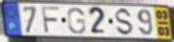2: (87, 6, 110, 38)
7: (22, 6, 38, 34)
9: (136, 8, 154, 37)
F: (41, 5, 62, 35)
G: (66, 7, 87, 35)
S: (115, 7, 135, 37)
